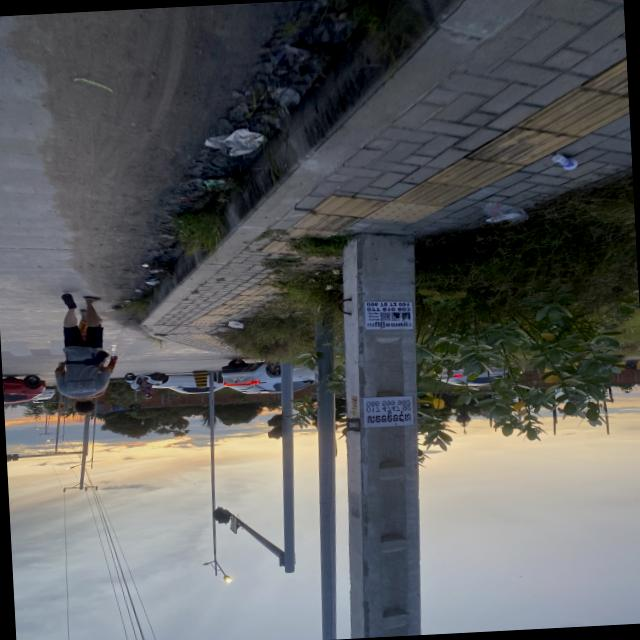324: (366, 404, 413, 414)
385: (367, 307, 412, 312)
406: (366, 398, 412, 408)
468: (367, 302, 410, 307)
Yolov11kh: (366, 410, 414, 428), (366, 320, 414, 330)
